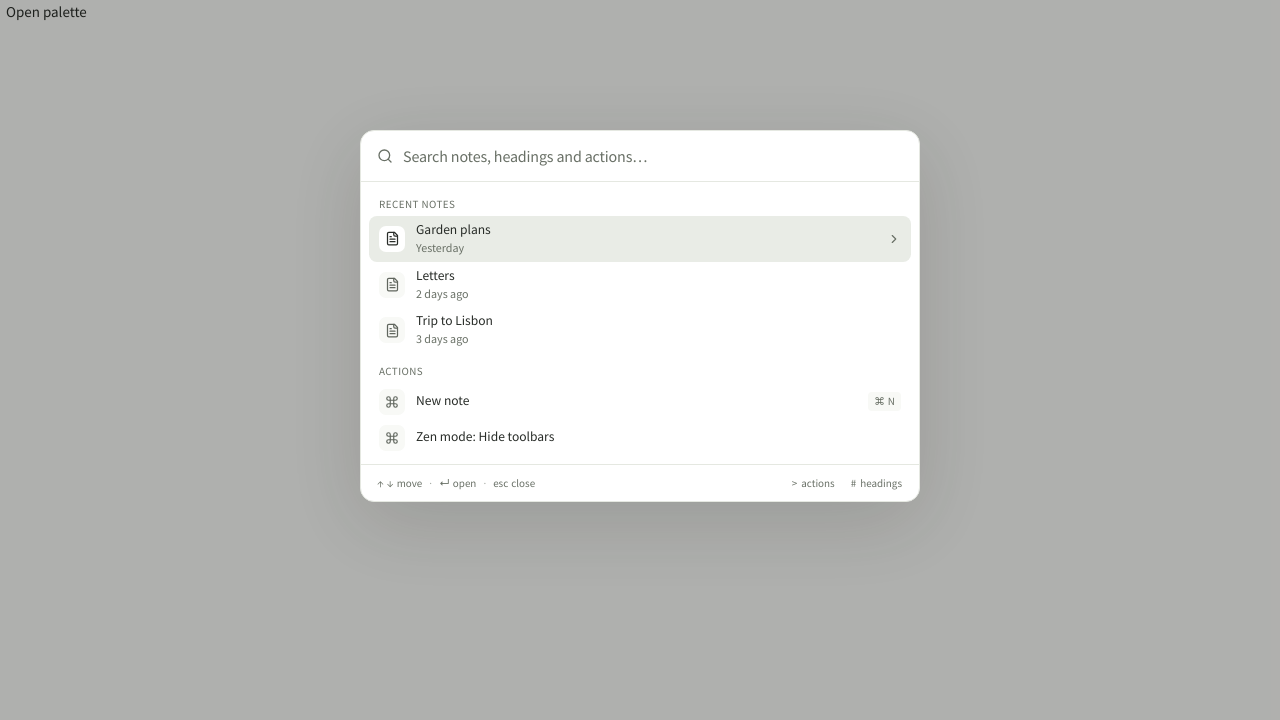
Test: command palette › explains an empty heading list
In the dropdown labelled "Search notes, headings and actions…": [653, 156] box [403,131,903,181], type "#"
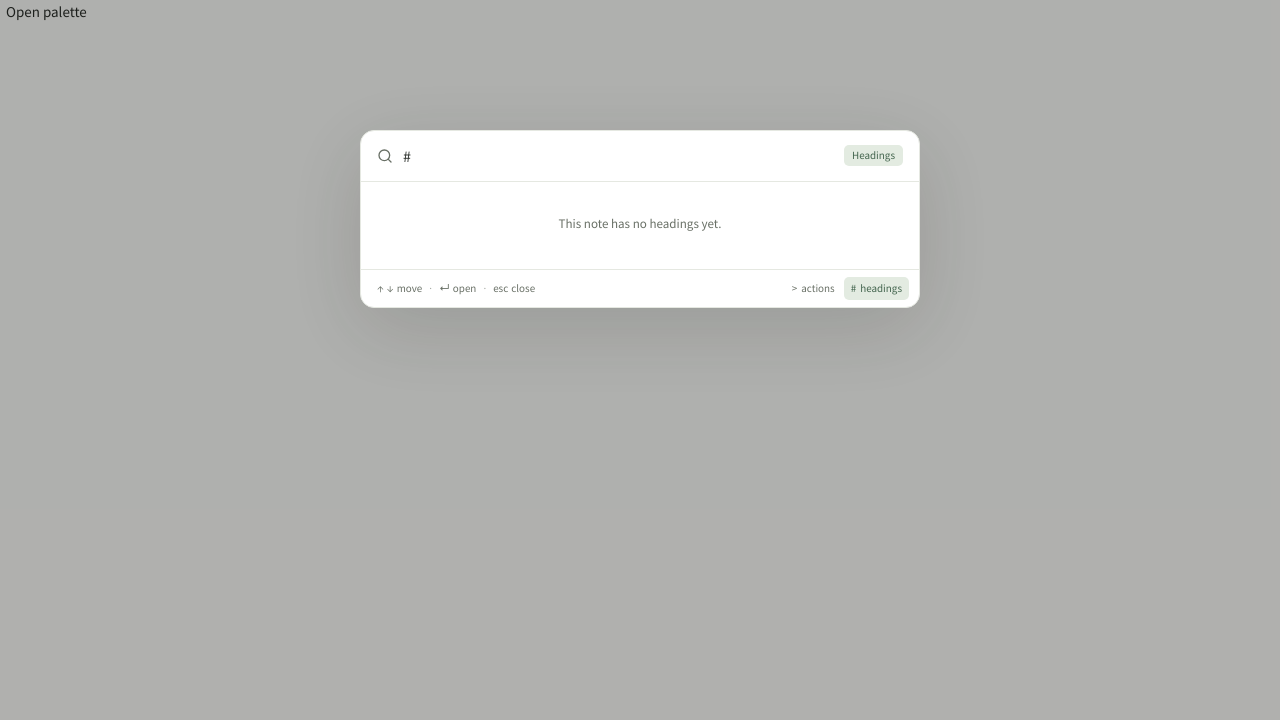
Result: the text "This note has no headings yet." is shown at [558,215,722,232]
